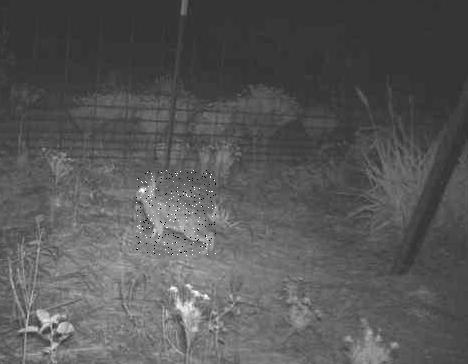Rabbit: (137, 170, 218, 256)
